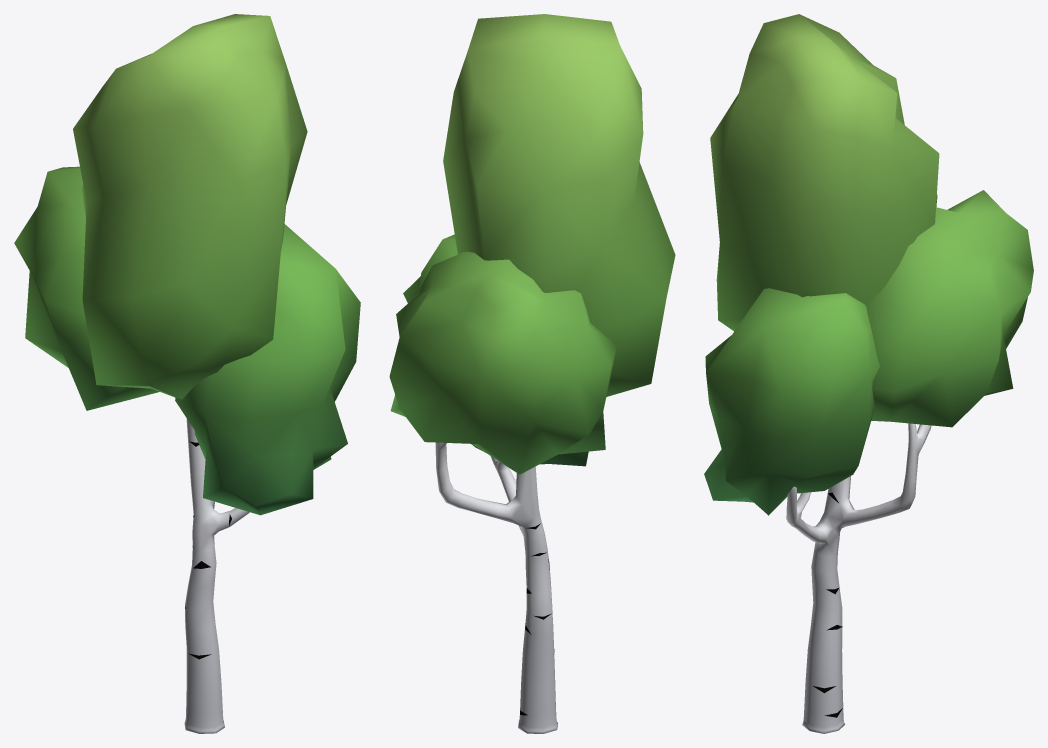
The model's file is BirchTree_3.fbx.
3 renders of one model, left to right at view 1: azimuth 30°, elevation 25°; view 2: azimuth 150°, elevation 25°; view 3: azimuth 270°, elevation 25°, orthographic. The views are drawn at different scales.
Parts seen in each view (by area): view 1: BirchTree_3.001, BirchTree_3; view 2: BirchTree_3.001, BirchTree_3; view 3: BirchTree_3.001, BirchTree_3.
Boxes of the visible parts, x1,y1,x2,y2 form: BirchTree_3.001: [14, 14, 360, 515]; BirchTree_3: [184, 418, 249, 733]; BirchTree_3.001: [389, 14, 675, 474]; BirchTree_3: [435, 442, 557, 733]; BirchTree_3.001: [704, 14, 1033, 515]; BirchTree_3: [786, 423, 931, 733].
Bounding box in the file's own units: 1.57 × 4.09 × 1.77.
